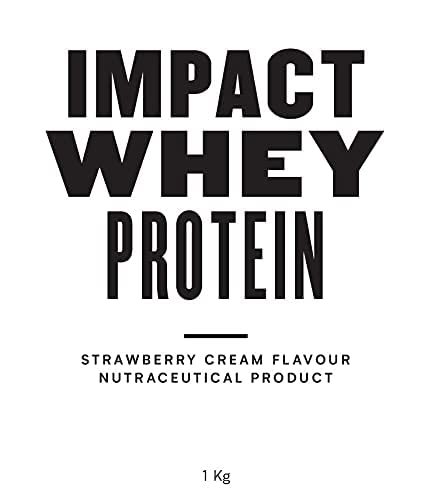CREAM: (205, 354, 262, 365)
FLAVOUR: (273, 354, 350, 365)
IMPACT: (68, 48, 364, 119)
NUTRACEUTICAL: (100, 373, 242, 383)
PRODUCT: (251, 373, 332, 383)
PROTEIN: (107, 210, 323, 300)
STRAWBERRY: (82, 354, 195, 365)
WHEY: (46, 130, 384, 197)
